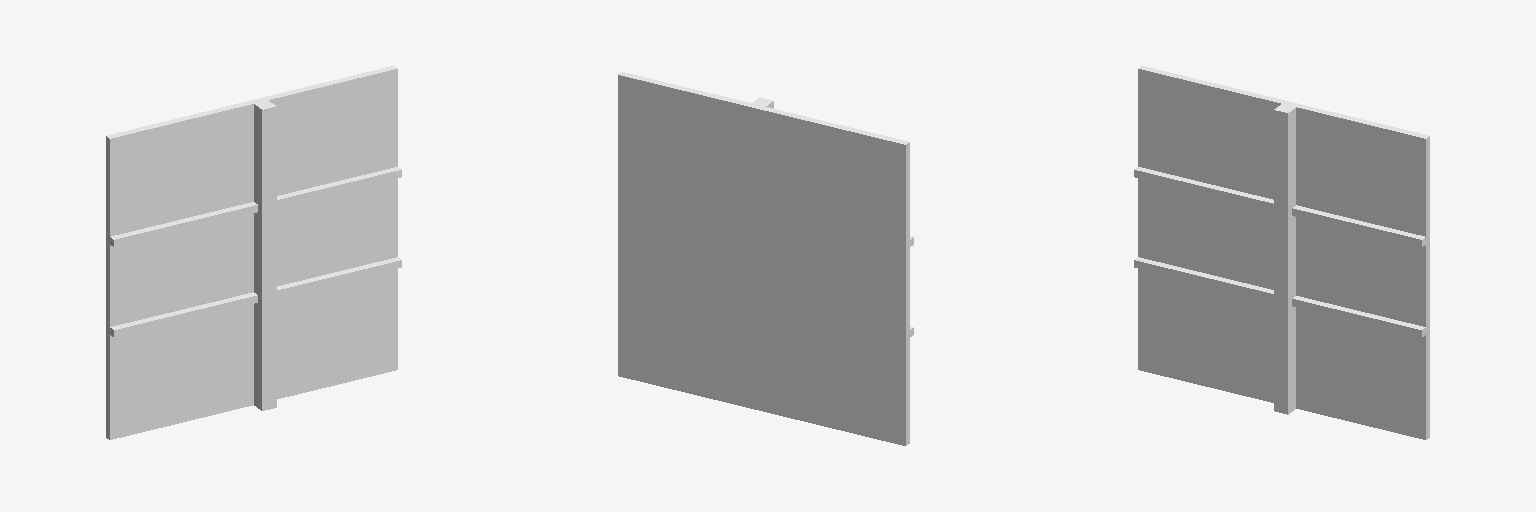
Rendered from emptyWall5-2-lod1.obj.
The picture shows the model from 3 angles: view 1: azimuth 30°, elevation 25°; view 2: azimuth 150°, elevation 25°; view 3: azimuth 330°, elevation 25°; orthographic projection.
Parts seen in each view (by area): view 1: lod1; view 2: lod1; view 3: lod1.
Boxes of the visible parts, x1,y1,x2,y2 form: lod1: [106, 66, 401, 439]; lod1: [618, 72, 913, 445]; lod1: [1134, 66, 1429, 439].
Bounding box in the file's own units: 16 × 16 × 1.2.